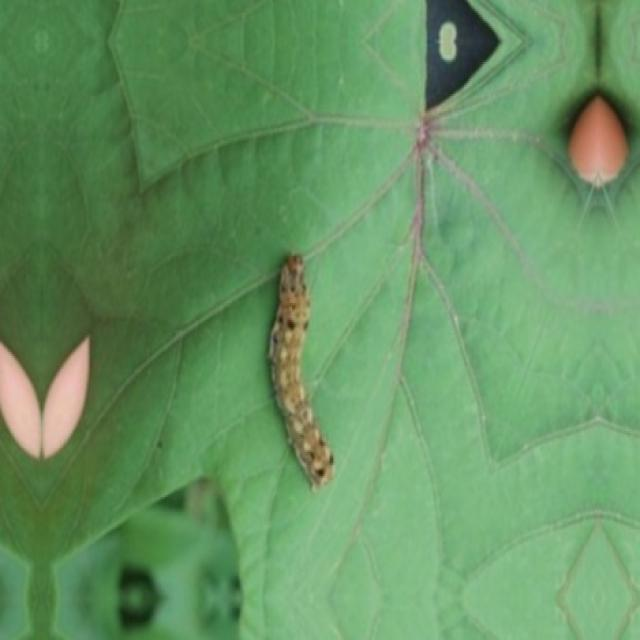Armyworm: (235, 254, 371, 500)
